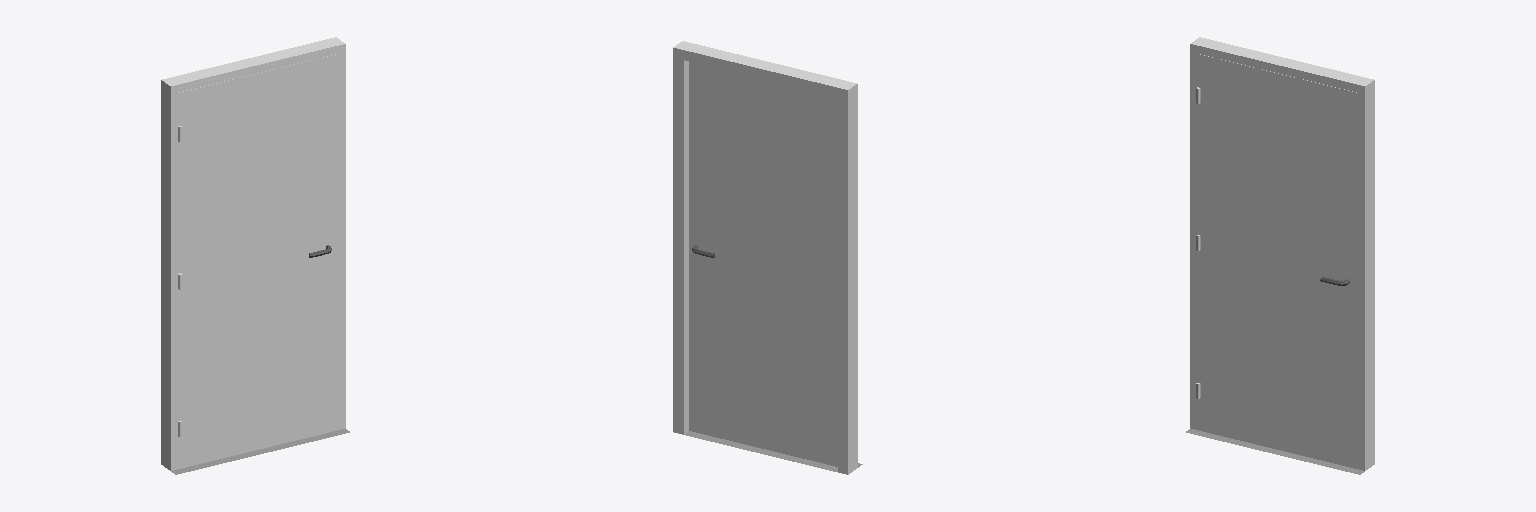
The model's file is Door2.obj.
The picture shows the model from 3 angles: view 1: azimuth 30°, elevation 25°; view 2: azimuth 150°, elevation 25°; view 3: azimuth 330°, elevation 25°; orthographic projection.
Parts seen in each view (by area): view 1: Porte_6, Montant_7, ground_1; view 2: Porte_6, Montant_7, ground_1; view 3: Porte_6, Montant_7, ground_1.
Boxes of the visible parts, box(x1,y1,x2,y2) form: Porte_6: box(179, 54, 336, 468); Montant_7: box(161, 37, 345, 470); ground_1: box(171, 428, 349, 474); Porte_6: box(689, 62, 837, 466); Montant_7: box(673, 41, 857, 474); ground_1: box(678, 431, 862, 474); Porte_6: box(1199, 54, 1356, 468); Montant_7: box(1190, 37, 1374, 470); ground_1: box(1186, 428, 1364, 474).
Bounding box in the file's own units: 100 × 210 × 14.6.